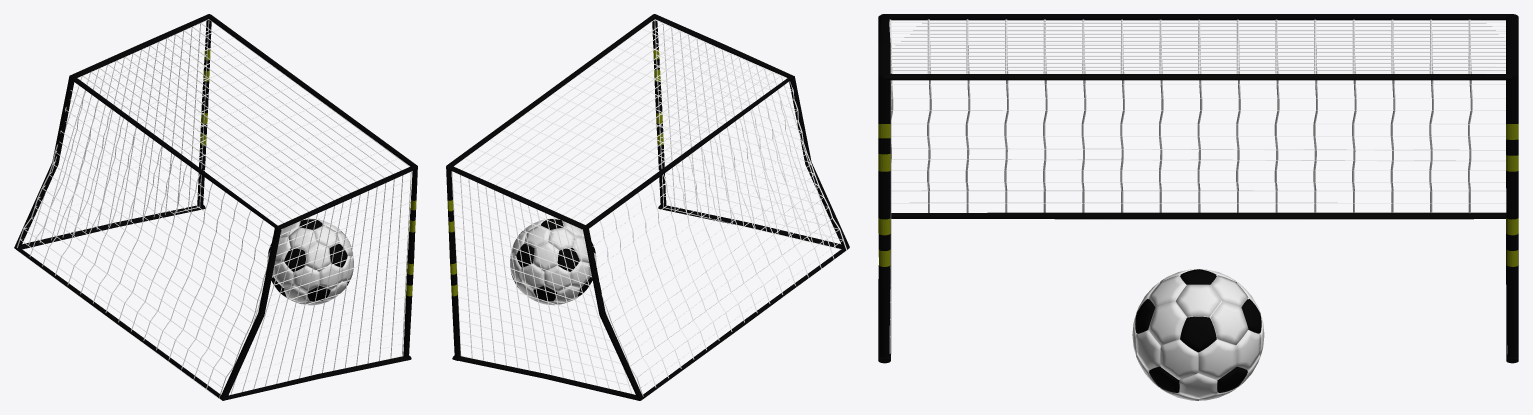
File: football goal.fbx
3 views of the same model, side by side, from view 1: azimuth 30°, elevation 25°; view 2: azimuth 150°, elevation 25°; view 3: azimuth 270°, elevation 25° (orthographic). The views are drawn at different scales.
Parts seen in each view (by area): view 1: Cube_Material_1, Object_5; view 2: Cube_Material_1, Object_5; view 3: Cube_Material_1, Object_5.
Part boxes in pixels (x1,y1,x2,y2): Cube_Material_1: (14,14,417,400); Object_5: (267,218,353,305); Cube_Material_1: (446,14,849,400); Object_5: (510,218,596,305); Cube_Material_1: (878,14,1518,363); Object_5: (1132,269,1264,400).
Size of the model in its own units: 63721 by 55732 by 100538.
